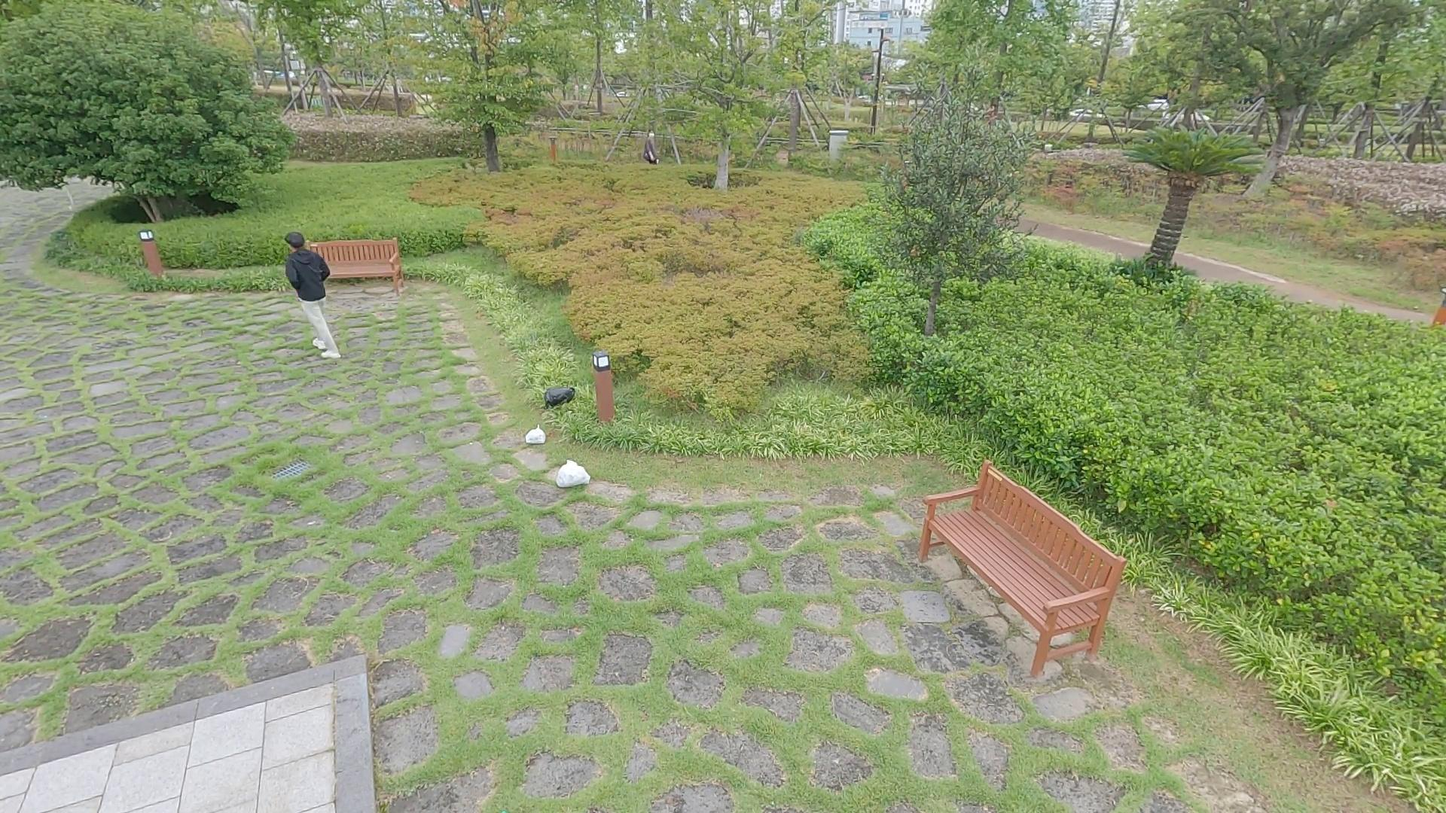person: (281, 227, 350, 363), (641, 128, 660, 165)
trash: (554, 455, 594, 492), (544, 383, 579, 412), (523, 422, 548, 446)
